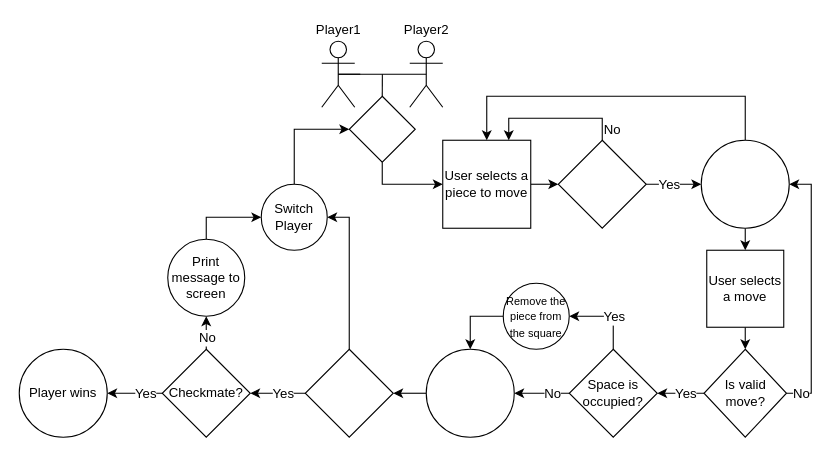
The diagram is 839 pixels wide and 457 high, and some of its shapes have lost their labels. Here are the shapes that lost their labels. From the top down, the centre of each, then its label:
point 381,128: Whose turn?
point 601,183: Is valid piece?
point 744,183: Highlight possible moves
point 348,392: Enemy king in check?
point 469,392: Put the user's piece in the square
